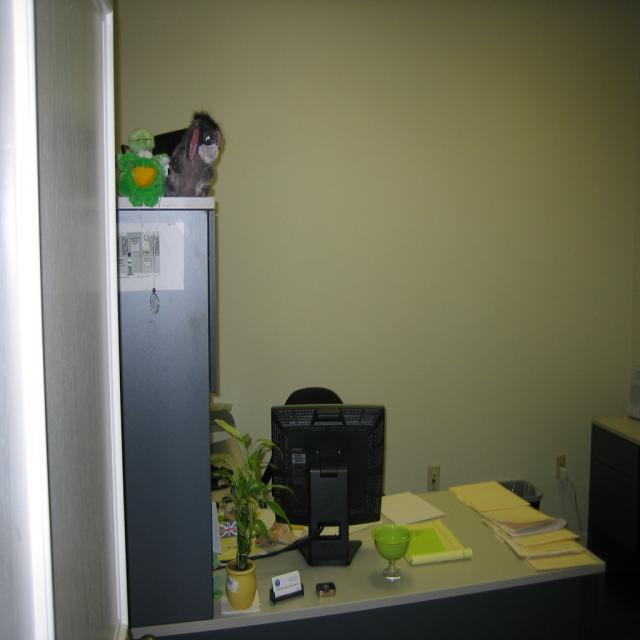desk: (127, 482, 601, 632)
